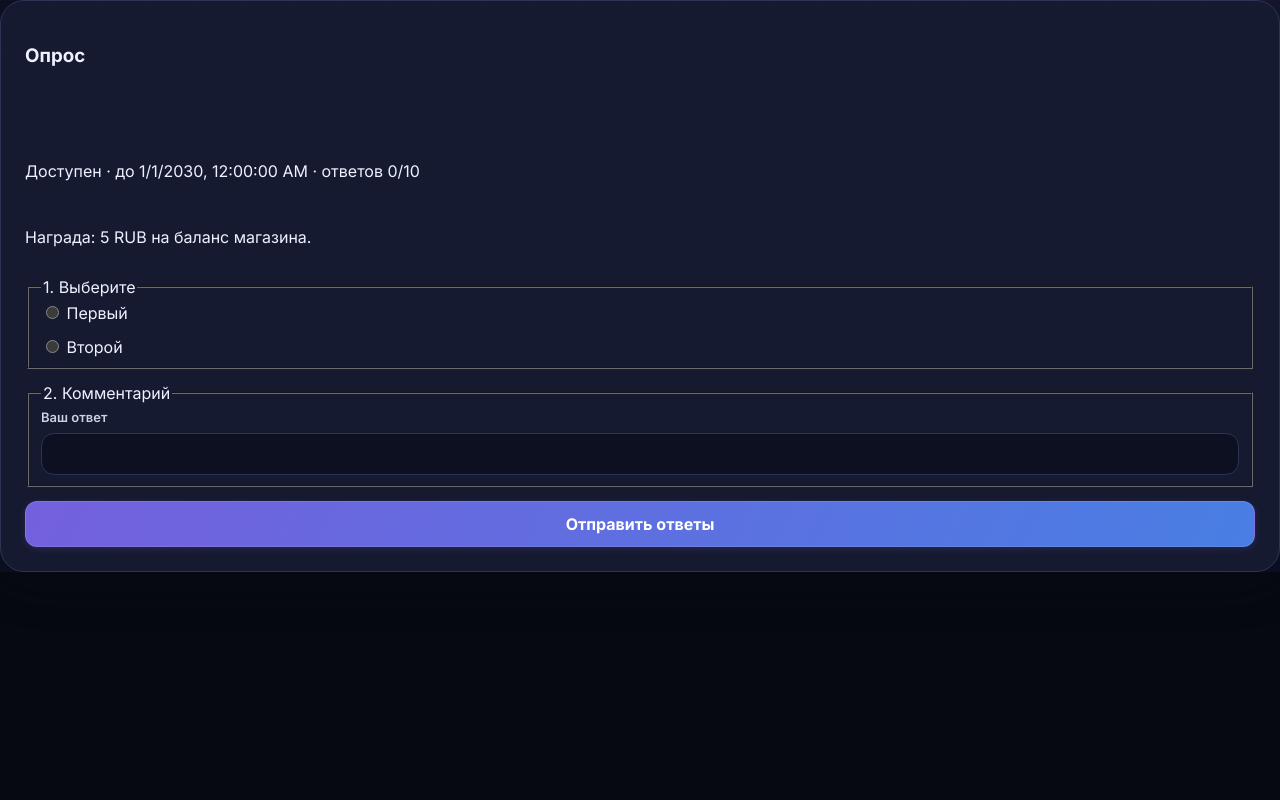
preserves answers when the response is lost
Click the radio button labelled "Второй" at (52, 346), box [46,340,59,353]
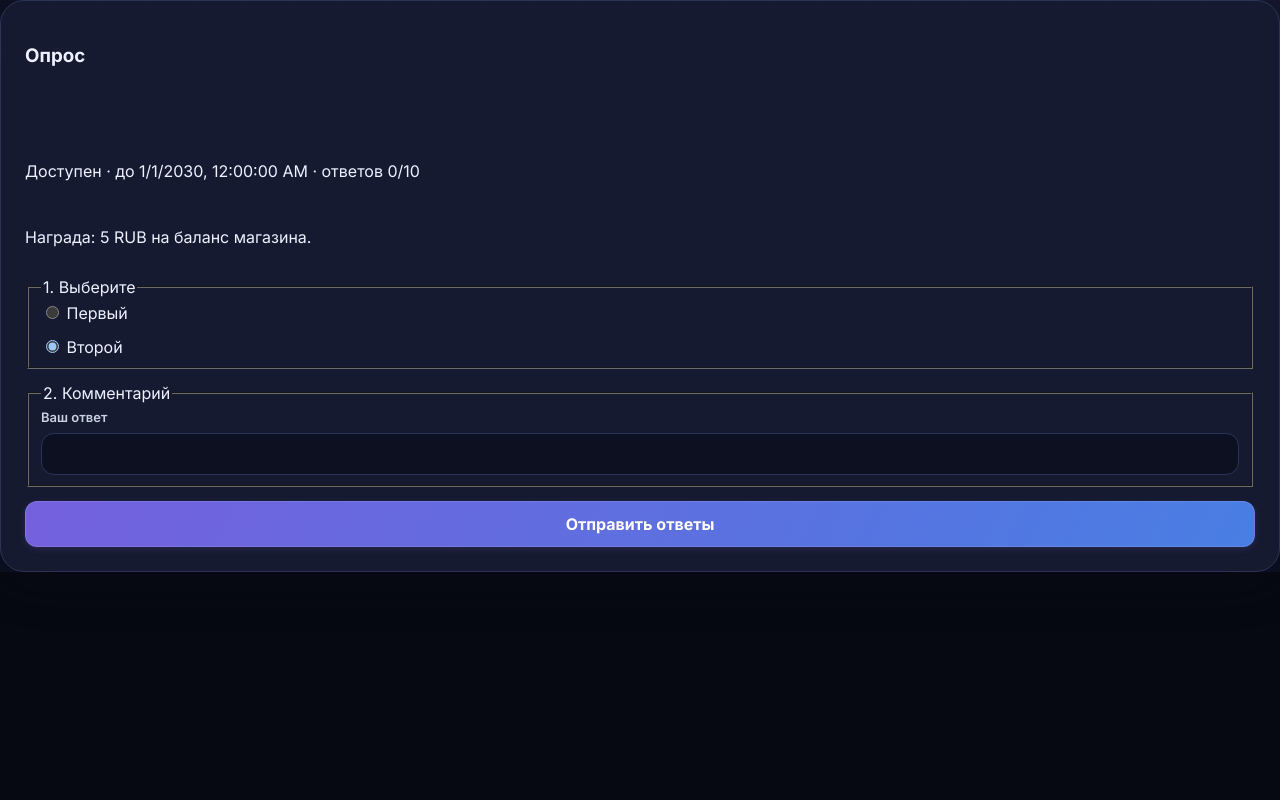
Type "Сохранить" into the field named "Ответ на вопрос 2" at (640, 454), box [41,433,1239,475]
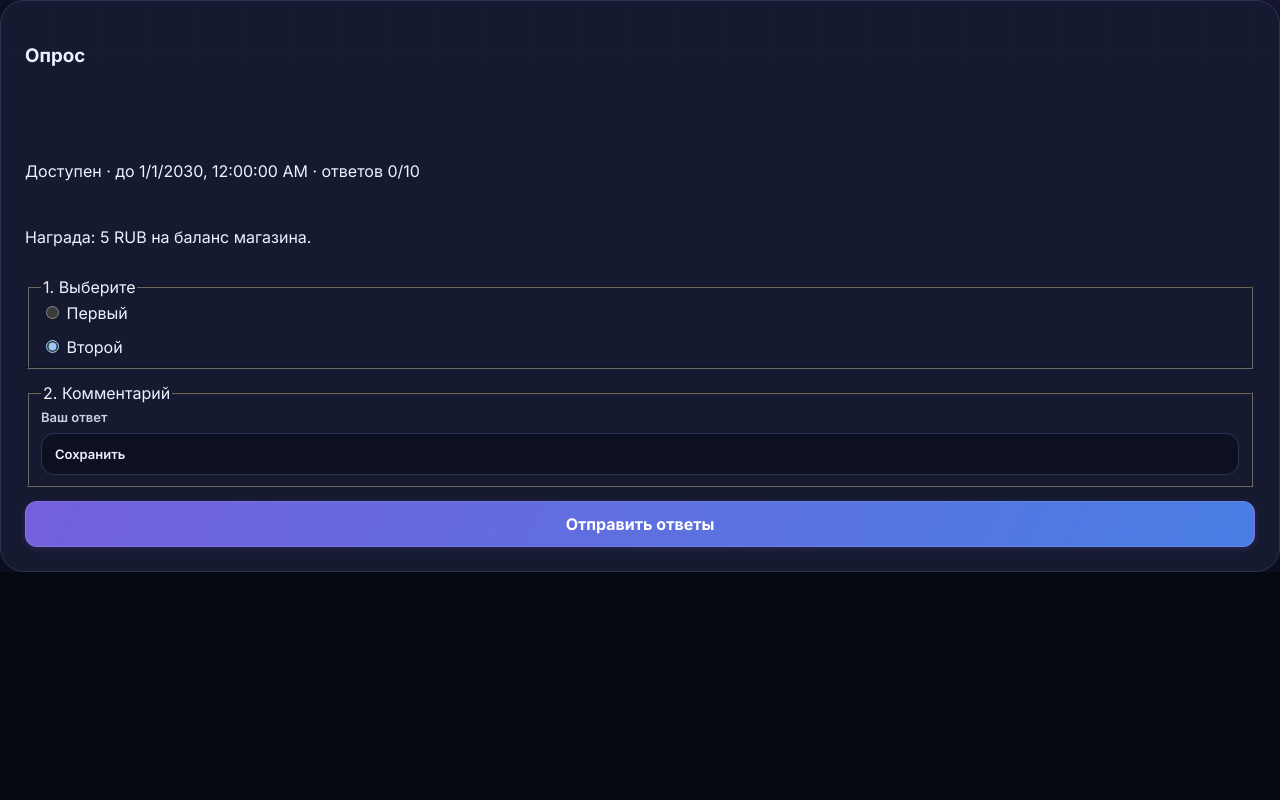
Click the button "Отправить ответы" at (640, 524), box [25,501,1255,547]
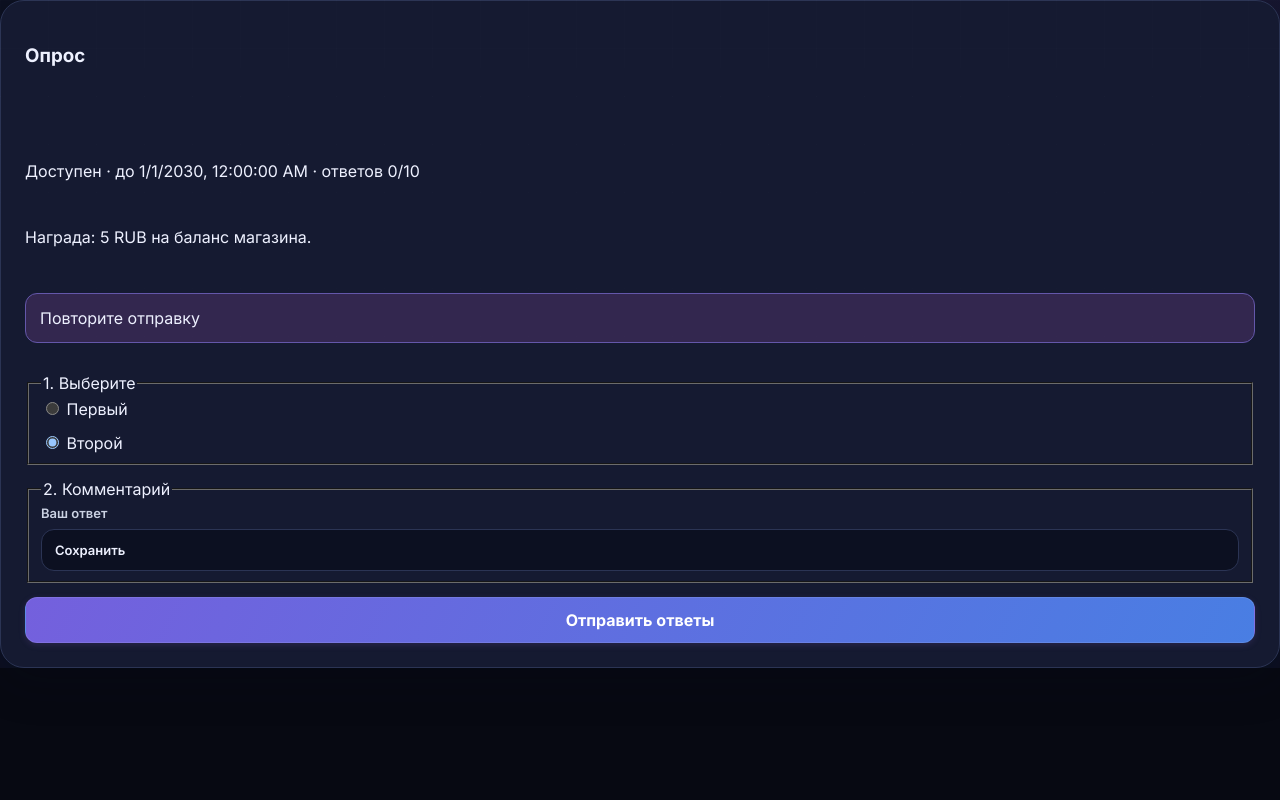
Result: the message reads "Повторите отправку" at [40,308,200,328]
